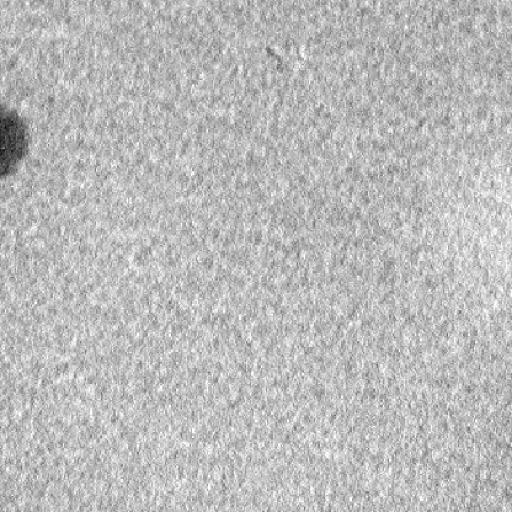Nanoparticles: (1, 102, 30, 189)
